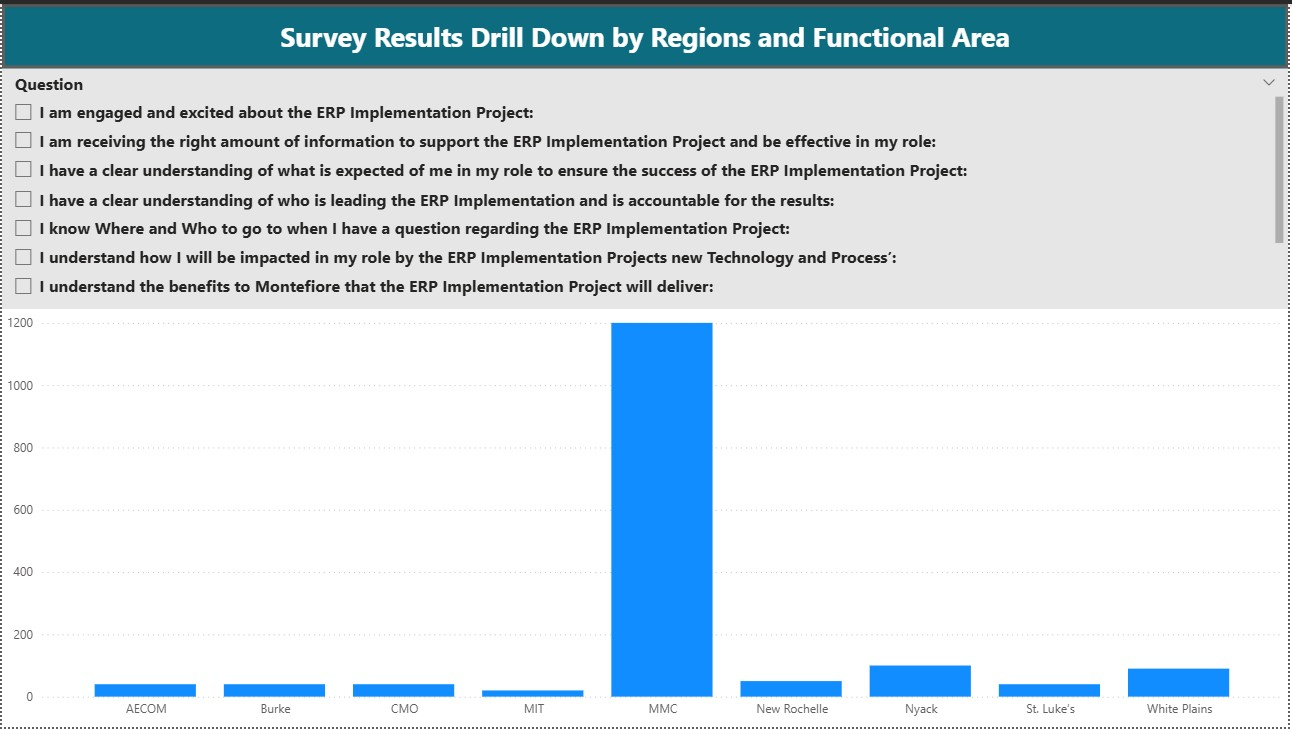

The page's visual inventory and layout, read from the dashboard file:
{"tool":"powerbi","page":{"name":"Page 5","canvas":[1280,720],"ordinal":4},"visuals":[{"type":"columnChart","fields":{"Category":["query (14).The Entity that I work for is:","query (14).The Functional area that I work in is best described as:","query (14).Answer"],"Y":["query (14).Count of Response"]},"box":[0,304,1280,416],"z":0},{"type":"slicer","fields":{"Values":["query (14).Attribute"]},"box":[0,64,1280,240],"z":1},{"type":"actionButton","box":[0,0,1280,64],"z":2}]}

Visuals, with their boxes on the page's 1280x720 design canvas (x1, y1, x2, y2). These are canvas units, not pixel positions in the 1292x732 screenshot, which may show the page scaled, cropped or inside an application window:
columnChart - query (14).The Entity that I work for is: x query (14).The Functional area that I work in is best described as:: region(0, 304, 1280, 720)
slicer - query (14).Attribute: region(0, 64, 1280, 304)
actionButton: region(0, 0, 1280, 64)
